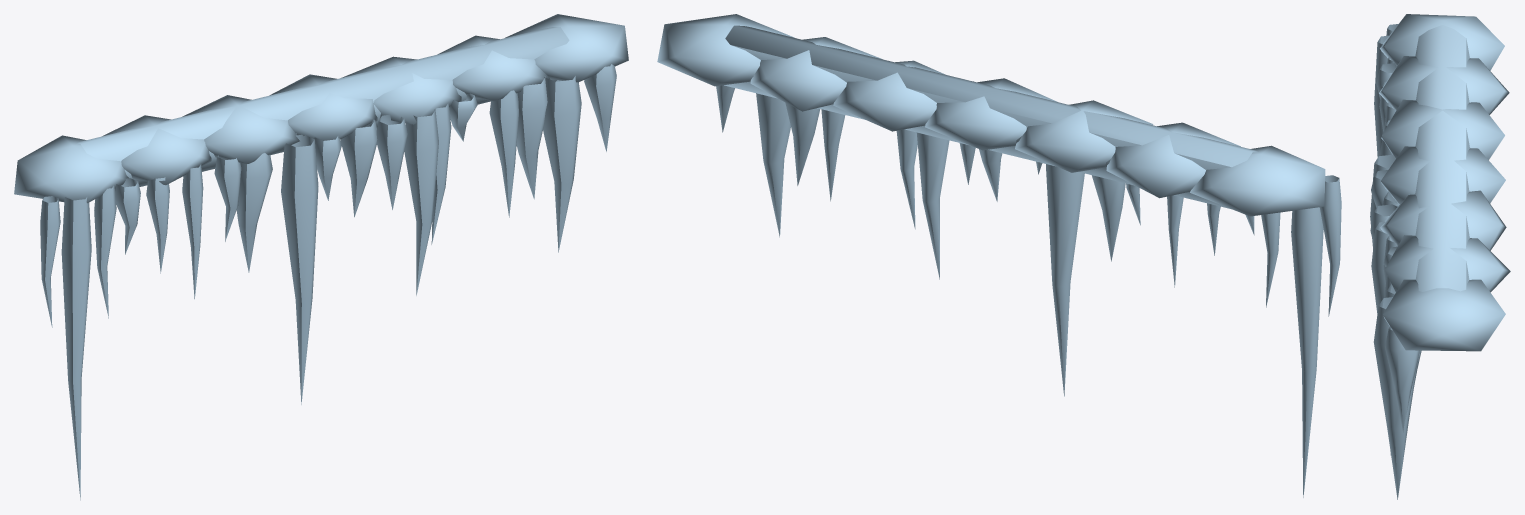
File: icicles.glb
3 views of the same model, side by side, from view 1: azimuth 30°, elevation 25°; view 2: azimuth 150°, elevation 25°; view 3: azimuth 270°, elevation 25° (orthographic). The views are drawn at different scales.
Parts seen in each view (by area): view 1: icicles; view 2: icicles; view 3: icicles.
Part boxes in pixels (x1,y1,x2,y2): icicles: (14, 14, 628, 500); icicles: (657, 14, 1341, 497); icicles: (1370, 14, 1510, 499).
Bounding box in the file's own units: 3.95 × 2.06 × 0.7099.
